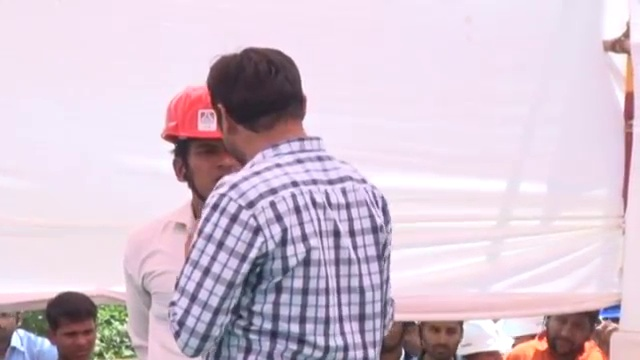helmet: (161, 89, 239, 144), (457, 318, 515, 359)
helmet_off: (204, 57, 309, 141), (46, 300, 99, 357), (542, 313, 607, 351), (420, 320, 464, 360), (378, 313, 409, 359), (0, 300, 27, 349)
helmet_on: (163, 90, 241, 205)
person: (131, 64, 407, 357), (505, 306, 613, 358), (0, 299, 57, 359)
